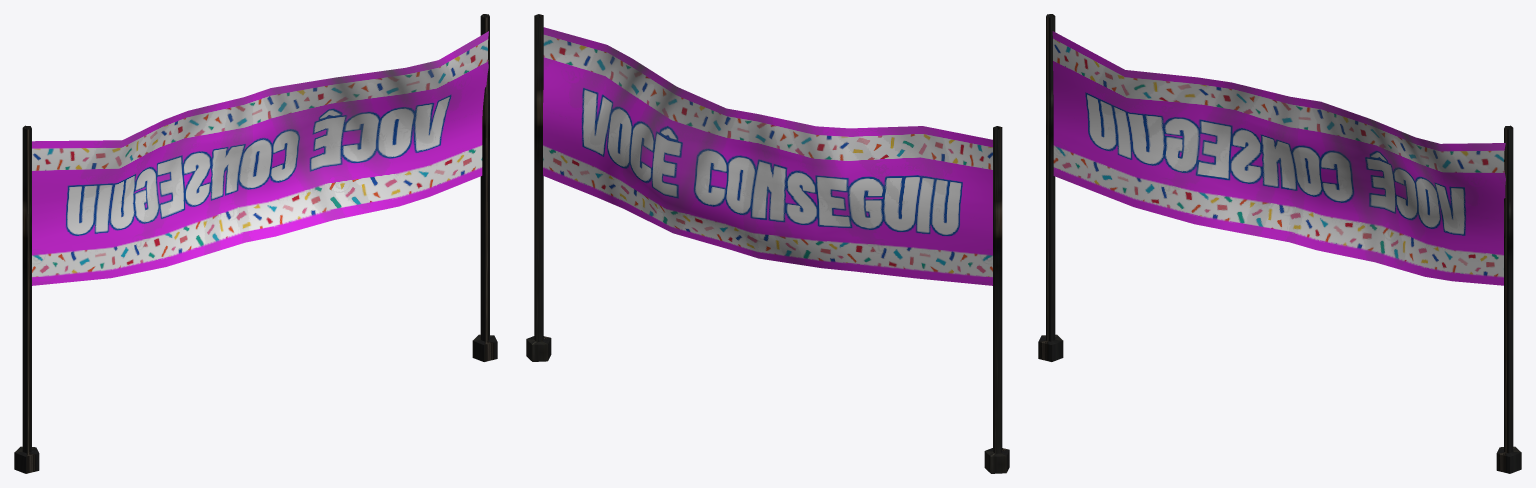
Rendered from Banner.fbx.
The picture shows the model from 3 angles, left to right: view 1: azimuth 30°, elevation 25°; view 2: azimuth 150°, elevation 25°; view 3: azimuth 330°, elevation 25°; orthographic projection.
Parts seen in each view (by area): view 1: EndingBanner; view 2: EndingBanner; view 3: EndingBanner.
Boxes of the visible parts, x1,y1,x2,y2 form: EndingBanner: (14,14,497,473); EndingBanner: (526,14,1009,473); EndingBanner: (1038,14,1521,473).
Bounding box in the file's own units: 1.55 × 1.05 × 0.1672.
